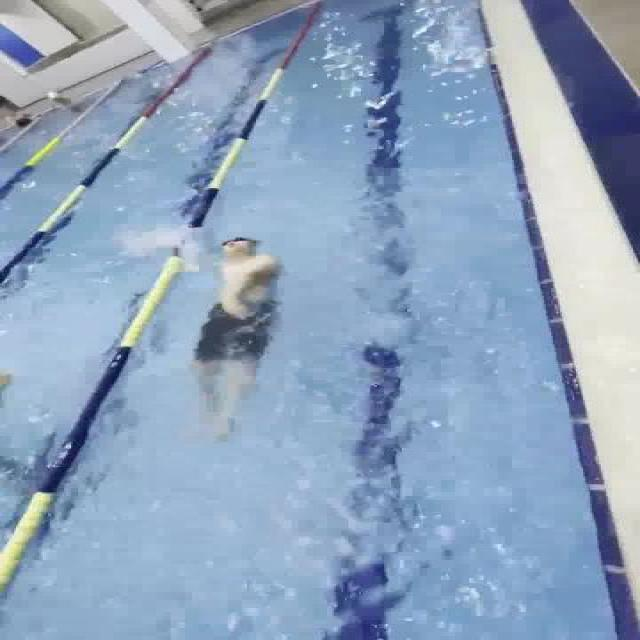Swimming: (192, 232, 282, 418)
